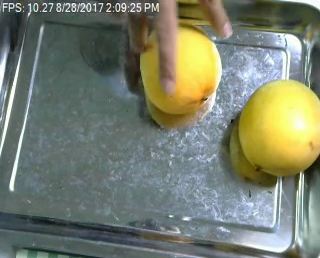Mango: (138, 19, 223, 112), (238, 80, 320, 175)
